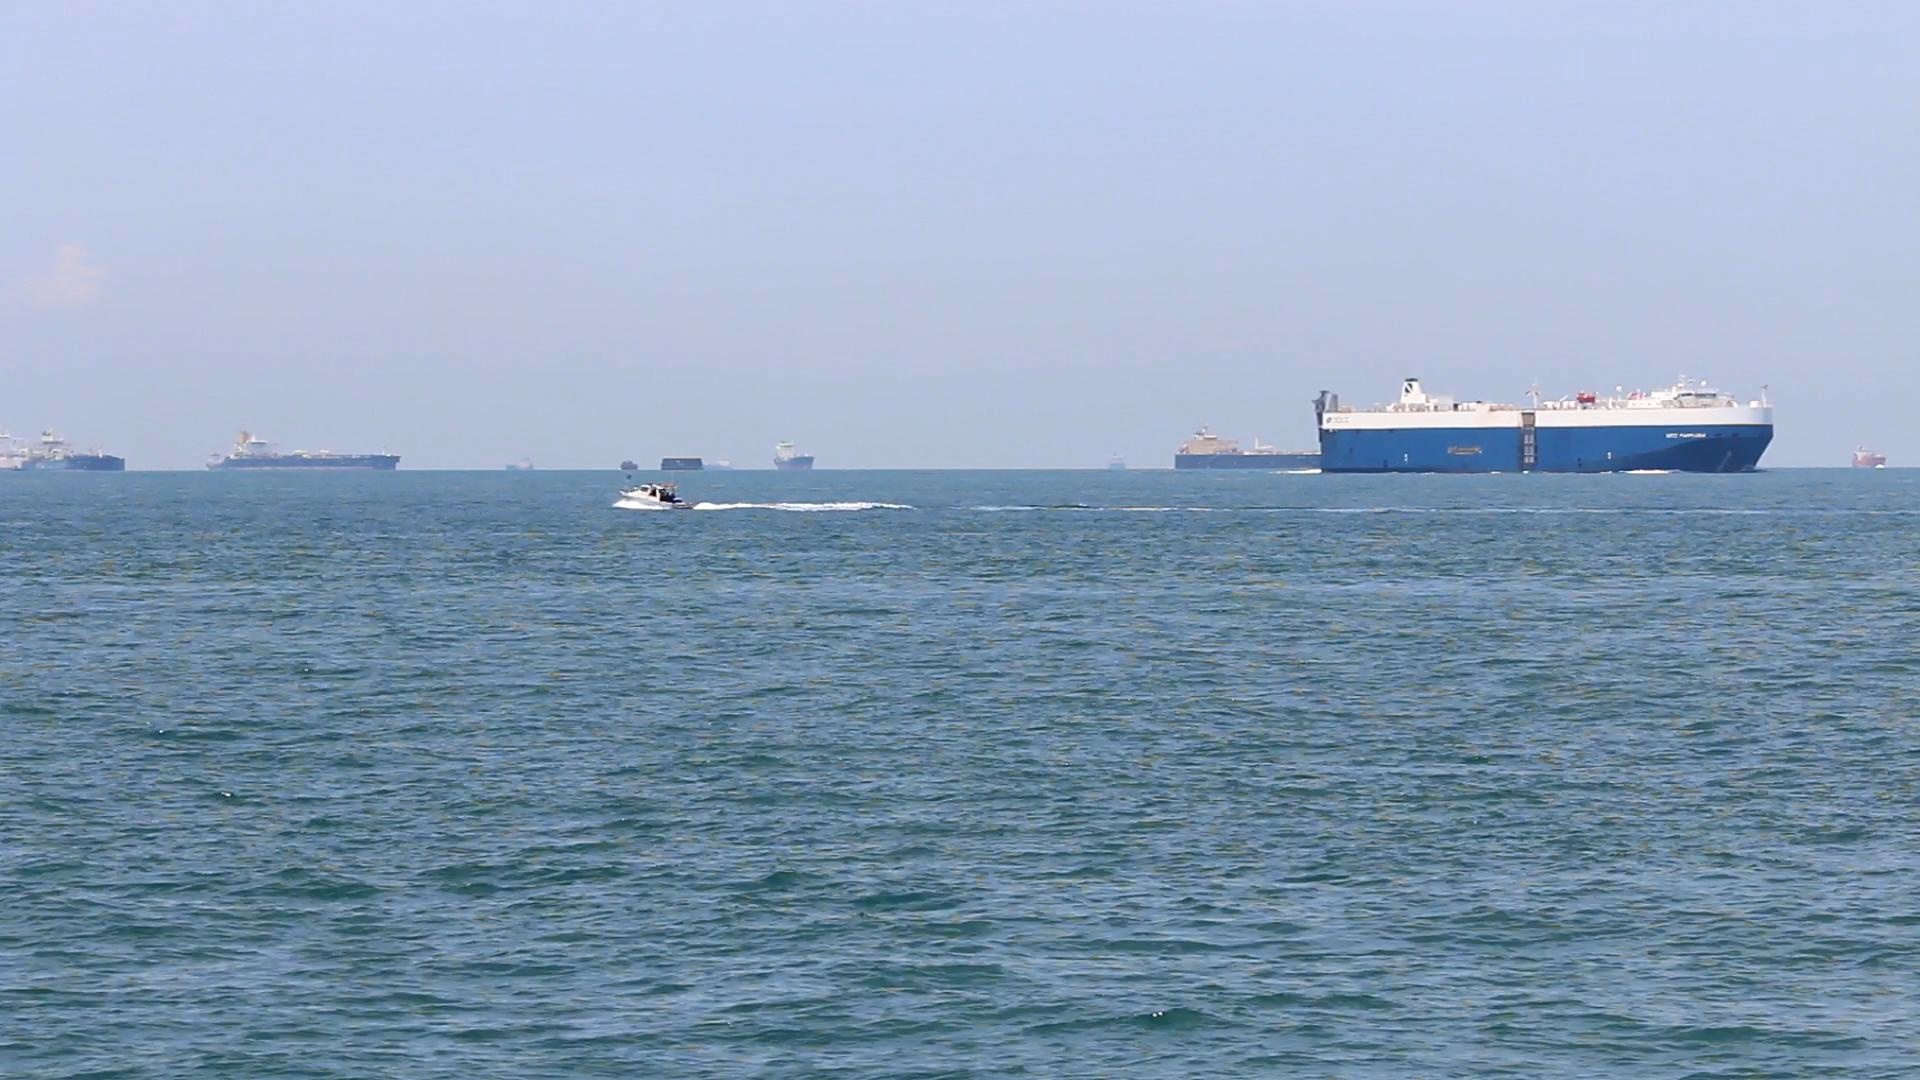Container Ship: (1309, 375, 1782, 485), (183, 422, 407, 476), (1163, 431, 1321, 476), (0, 430, 140, 477), (757, 435, 818, 480), (1838, 436, 1890, 480)
